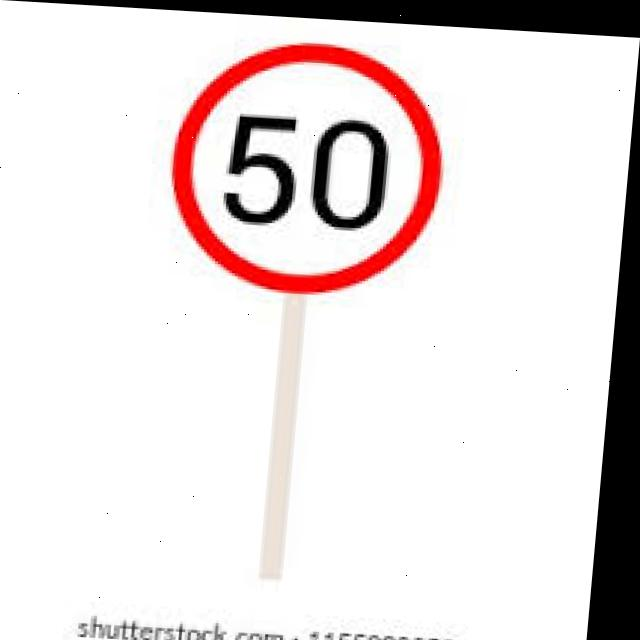Speed limit 50: (162, 29, 459, 300)
